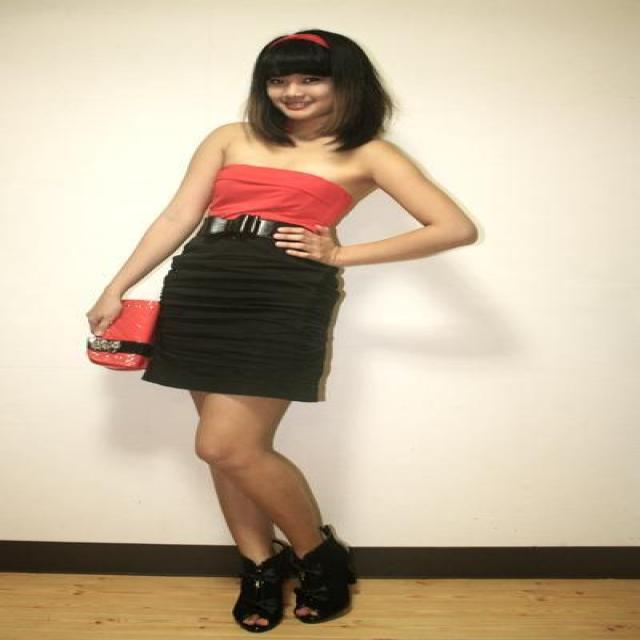bag: (86, 300, 157, 369)
shirt: (202, 160, 351, 230)
shoe: (224, 526, 354, 631)
skirt: (134, 218, 338, 404)
